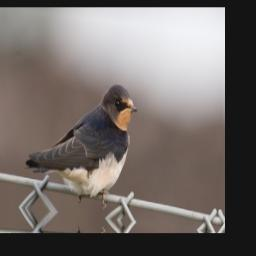Swallow: (23, 70, 139, 213)
